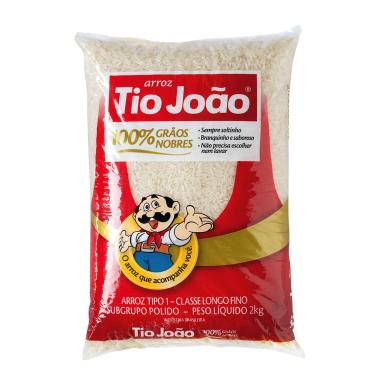rice package: (76, 27, 303, 358)
